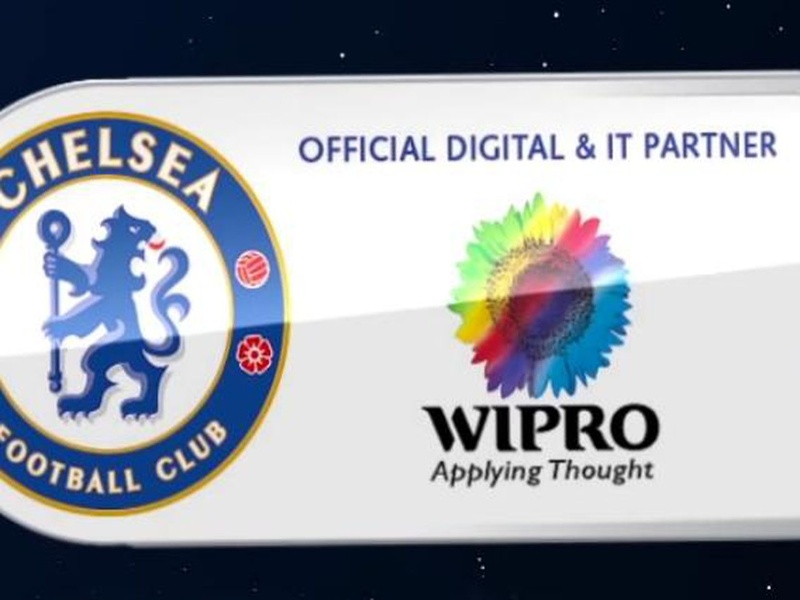wipro: (444, 192, 635, 394)
